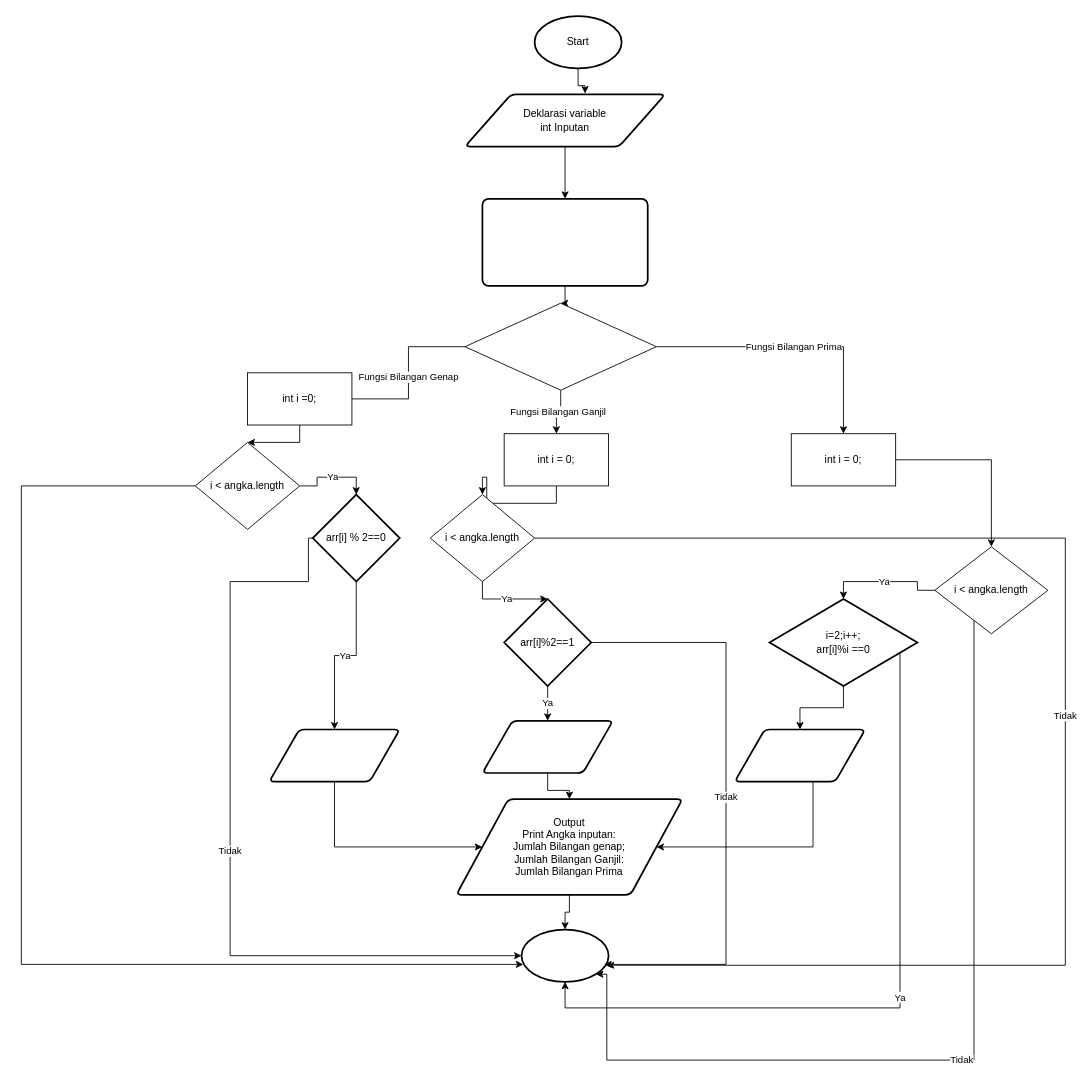
Image size: 1092x1082. Some labels were removed from this diagram. Each missing label, with the box of its shape:
Bilangan ganjil: (481, 719, 613, 773)
Bilangan genap: (268, 728, 400, 782)
Bilangan Prima: (733, 728, 866, 782)
End: (520, 928, 609, 982)
inputan int[i] arr;: (464, 302, 656, 390)
int[] arr = new int[len] int gnp =0, gnjil =0, int prim=0;: (481, 197, 648, 286)
